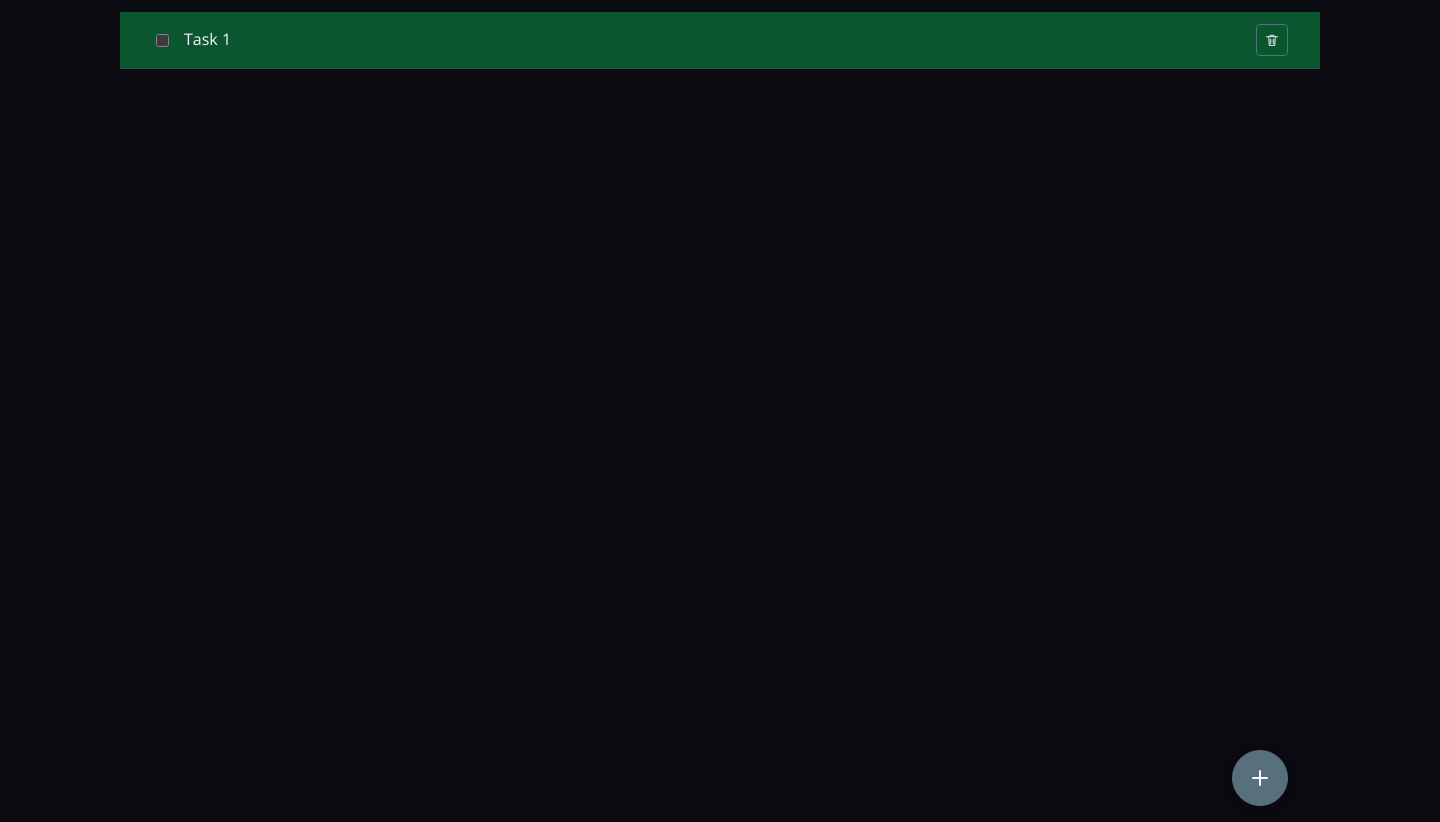
completing a task › puts the row back and says so when the server refuses
Click the checkbox named "Complete Task 1": (162, 40) [156,34,169,46]
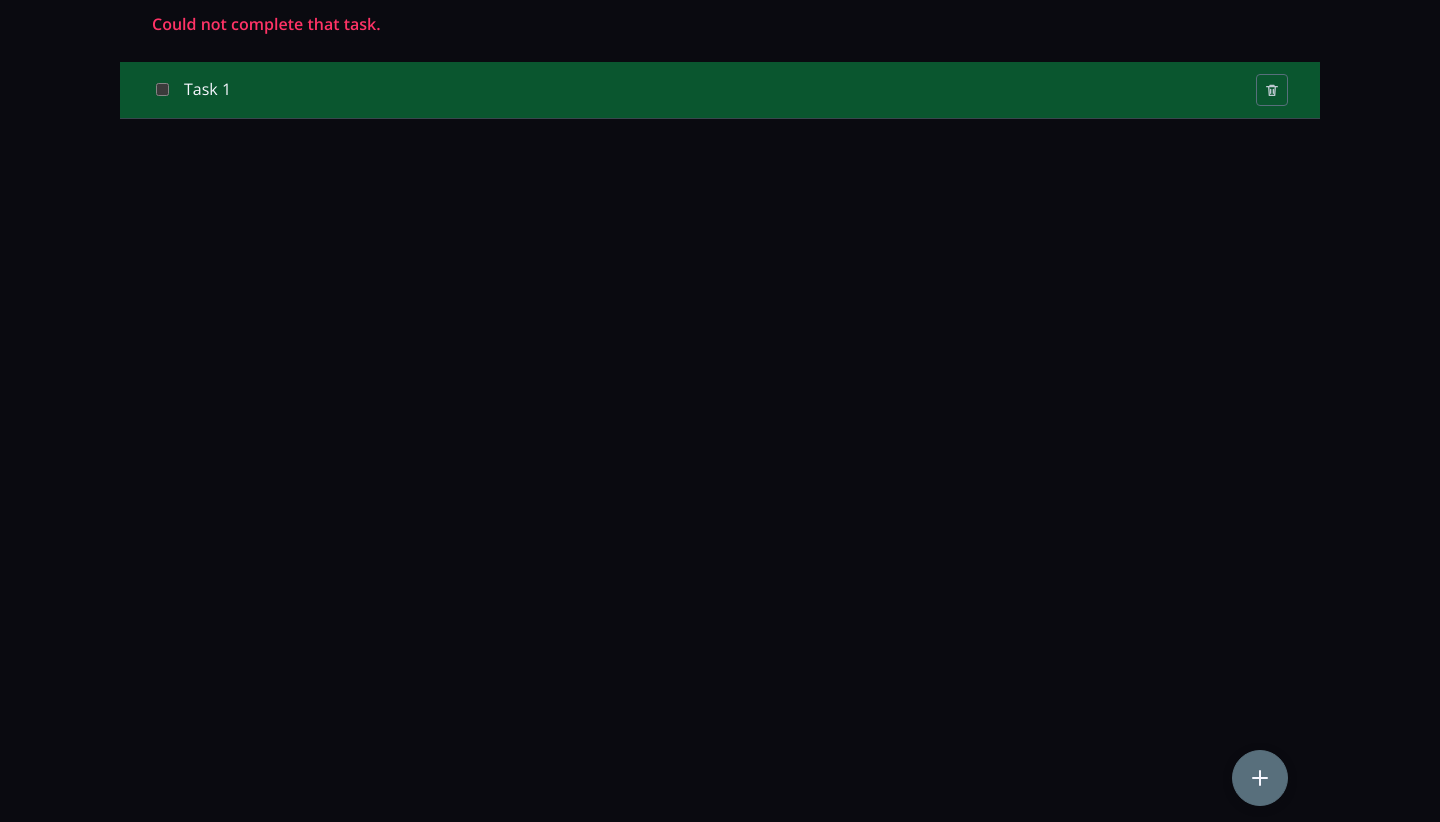
Expected: the number of list items with class "list__row" is 1, [120,62,1320,119]
Expected: the text "Could not complete that task." is shown, [152,13,381,35]
